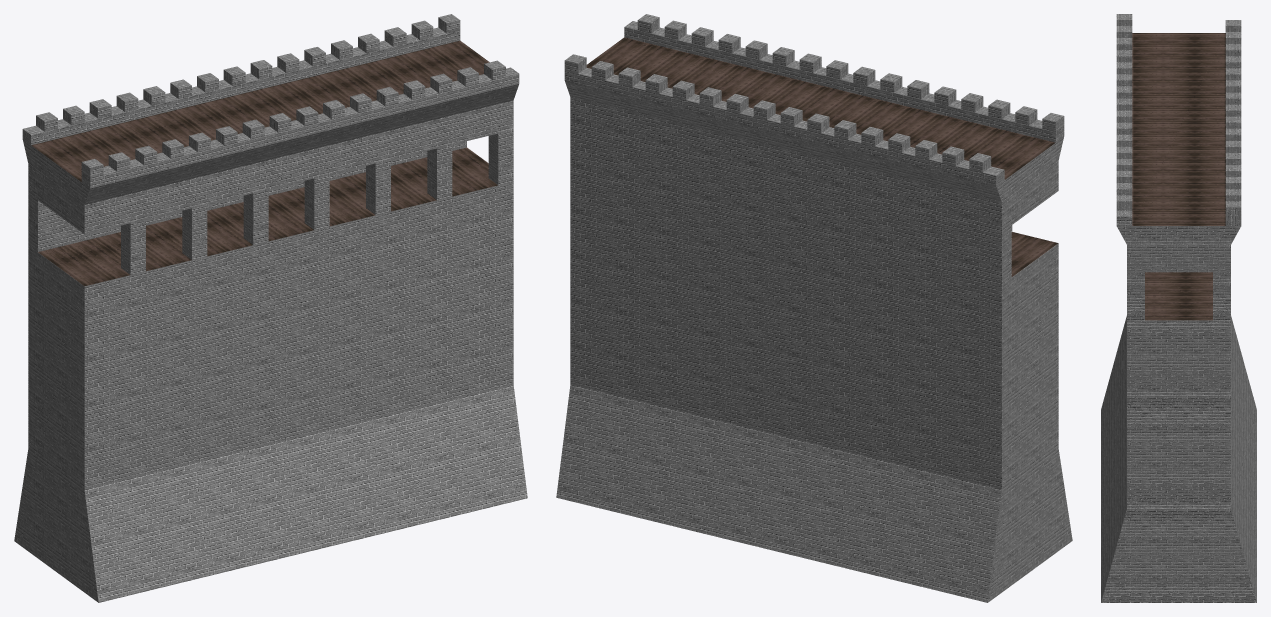
The model's file is TallWall.fbx.
3 views of the same model, side by side, from view 1: azimuth 30°, elevation 25°; view 2: azimuth 150°, elevation 25°; view 3: azimuth 270°, elevation 25° (orthographic). The views are drawn at different scales.
Visible parts, largest first — view 1: TallWall; view 2: TallWall; view 3: TallWall.
Part boxes in pixels (bbox=[...]): TallWall: bbox=[14, 14, 527, 602]; TallWall: bbox=[556, 14, 1072, 602]; TallWall: bbox=[1101, 14, 1256, 602].
Bounding box in the file's own units: 2200 × 2100 × 750.
